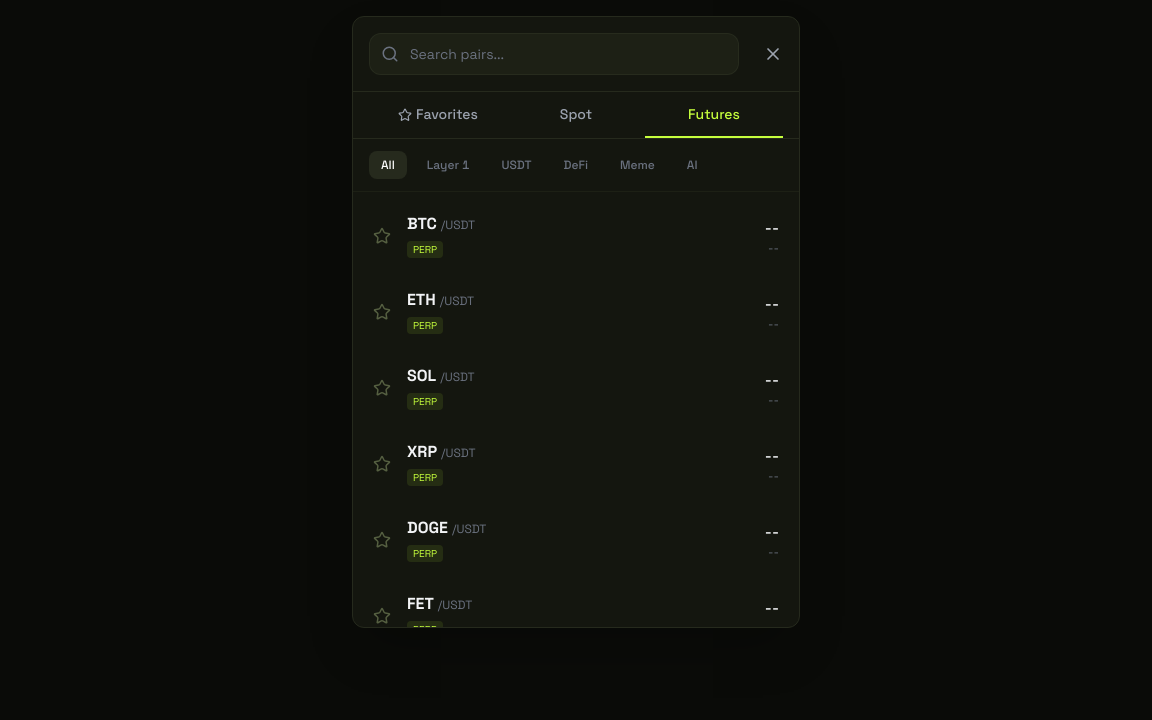
it: MarketSelector › 2. Search BTC & 5. Case-insensitive search
In the field with placeholder "Search pairs...": (554, 54) [369,33,739,75], type "btc"
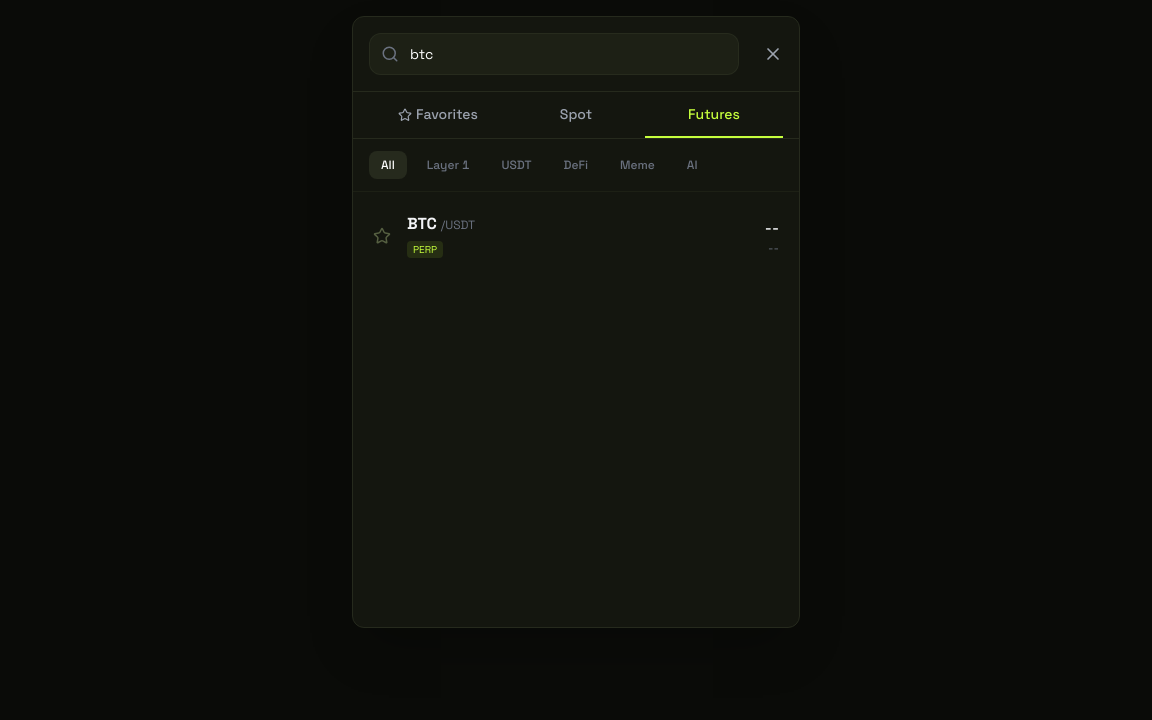
Expected: the text "BTC" is shown, [407,212,437,236]
Result: the text "ETH" is gone
